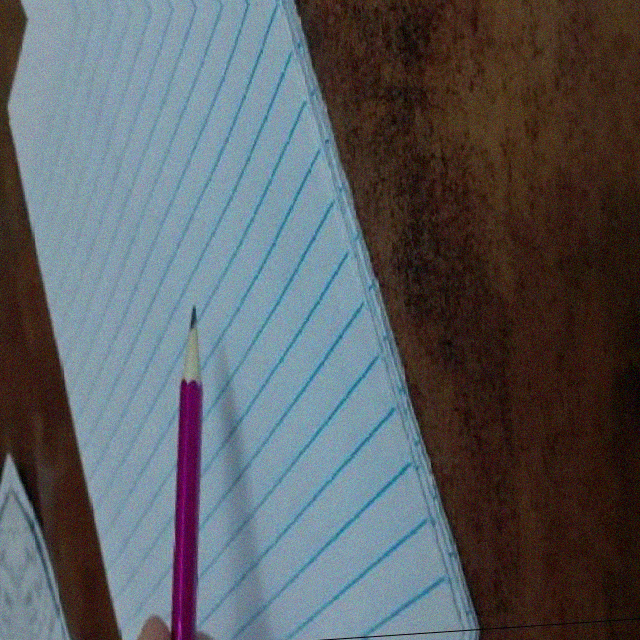pencil: (170, 302, 208, 383)
